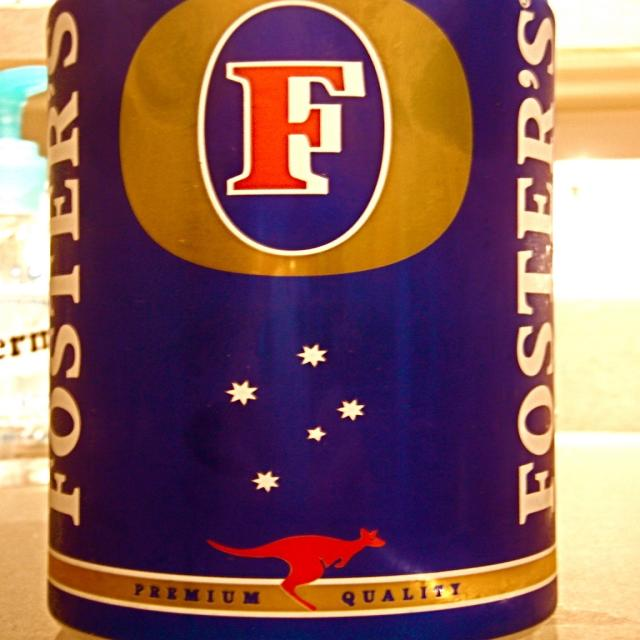fosters: (115, 2, 480, 282)
